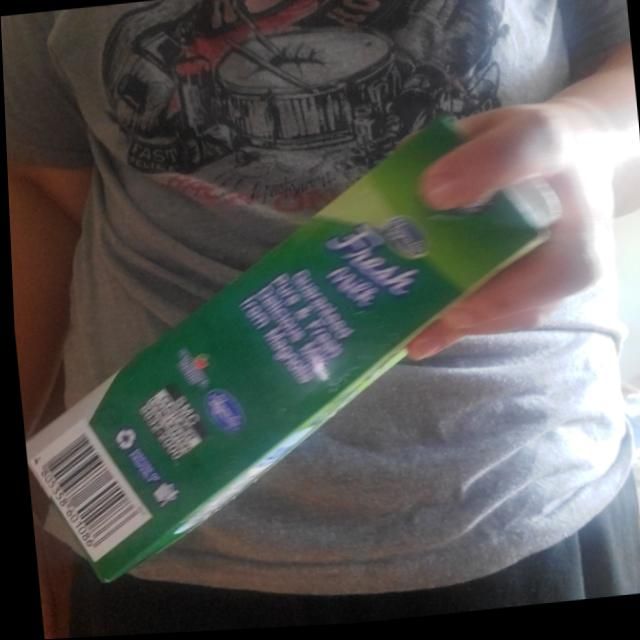milk: (5, 109, 582, 596)
